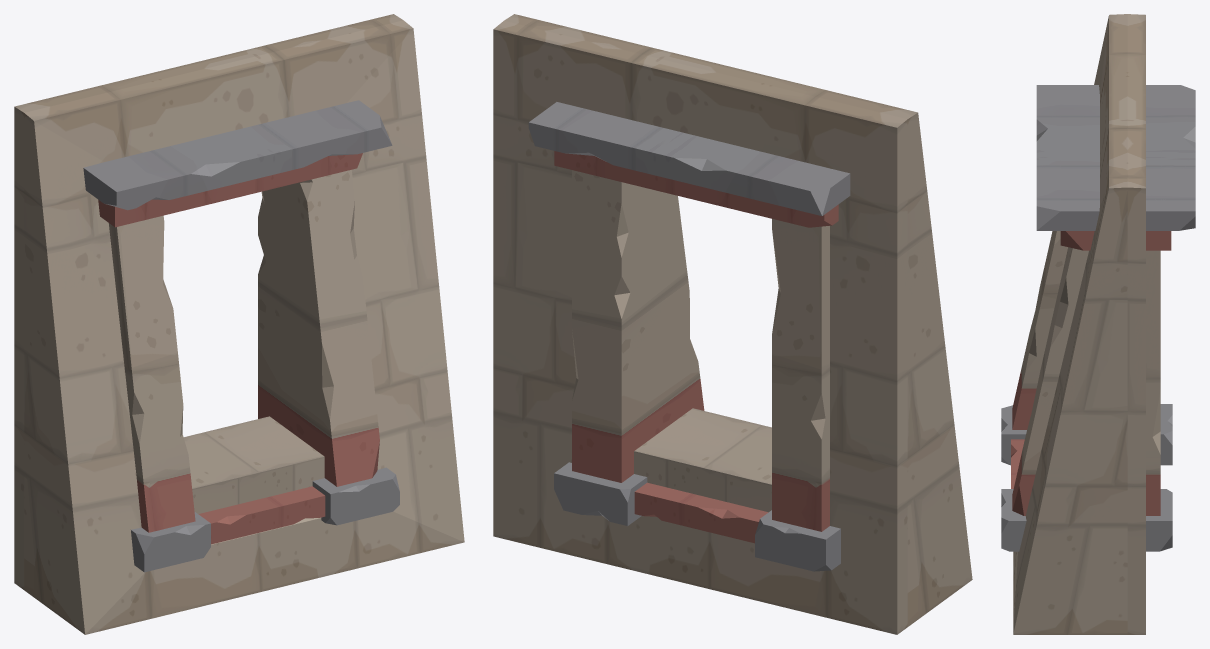
The model's file is SM_Bld_Wall_Temple_Top_Window_02.fbx.
The picture shows the model from 3 angles, left to right: view 1: azimuth 30°, elevation 25°; view 2: azimuth 150°, elevation 25°; view 3: azimuth 270°, elevation 25°; orthographic projection. The views are drawn at different scales.
Visible parts, largest first — view 1: SM_Bld_Wall_Temple_Top_Window_02; view 2: SM_Bld_Wall_Temple_Top_Window_02; view 3: SM_Bld_Wall_Temple_Top_Window_02.
Part boxes in pixels (x1,y1,x2,y2): SM_Bld_Wall_Temple_Top_Window_02: (14,14,464,634); SM_Bld_Wall_Temple_Top_Window_02: (493,14,972,634); SM_Bld_Wall_Temple_Top_Window_02: (1001,14,1195,634).
Bounding box in the file's own units: 500 × 601 × 236.
